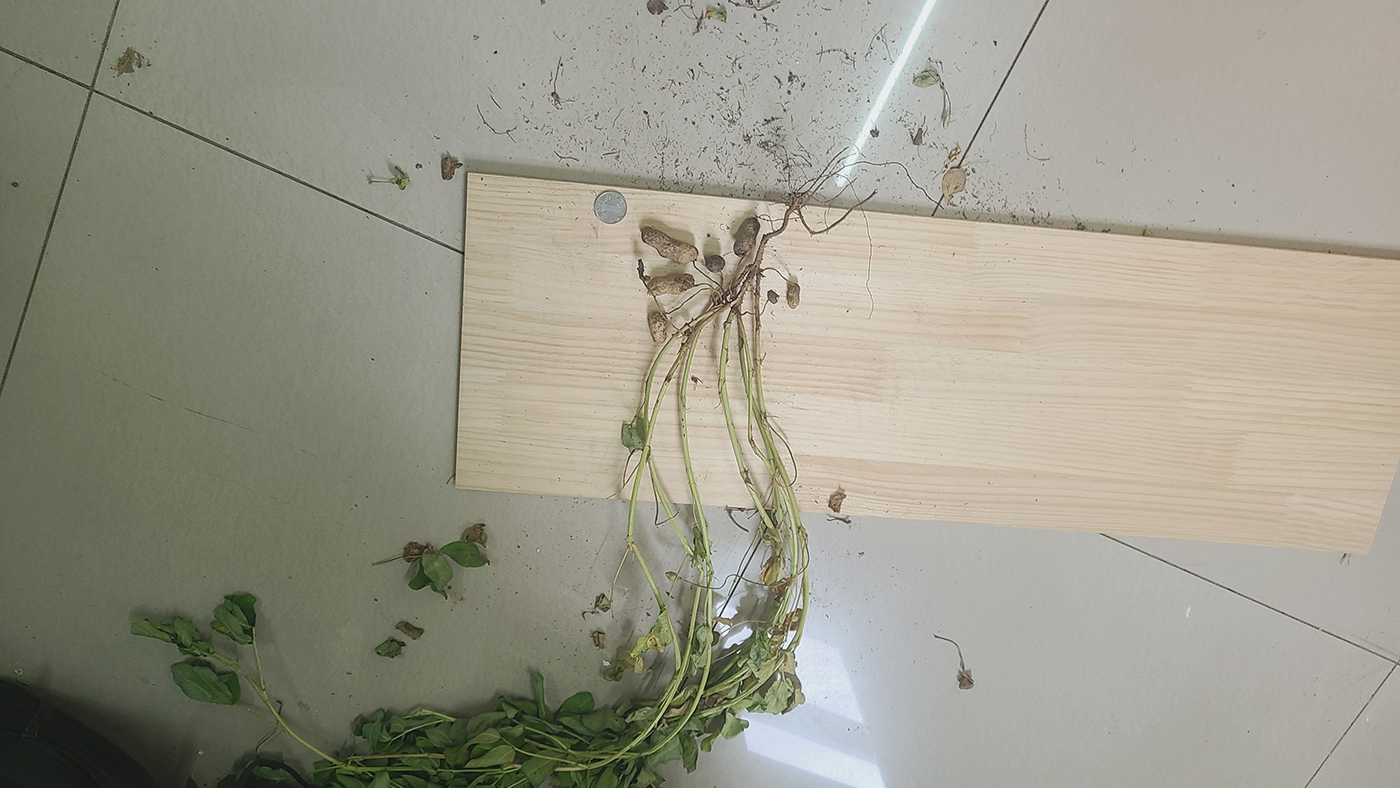h: (641, 225, 698, 263), (733, 217, 762, 257), (647, 273, 695, 297), (647, 311, 667, 344), (706, 254, 726, 272), (787, 282, 800, 308), (637, 257, 650, 280), (767, 290, 780, 303)
